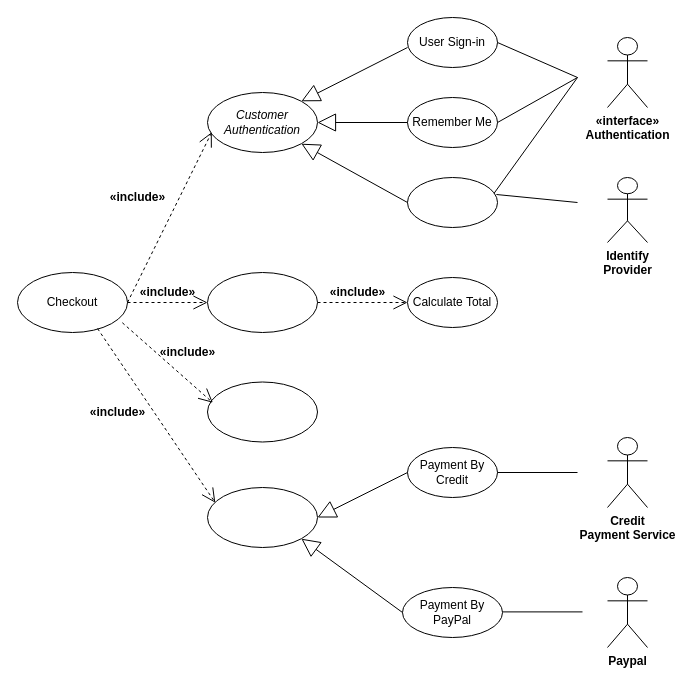
This 693x686 diagram has some shape labels left out. The shapes that lost their labels are listed below. From the top down, each one's box as (x1, y1, x2, y2) in pixels, then its label:
(406, 176, 498, 228): Singer Sign-on
(206, 272, 318, 332): View / Update Shopping Cart
(206, 381, 318, 442): Calculate Taxes and Shipping
(206, 486, 318, 548): Payment
